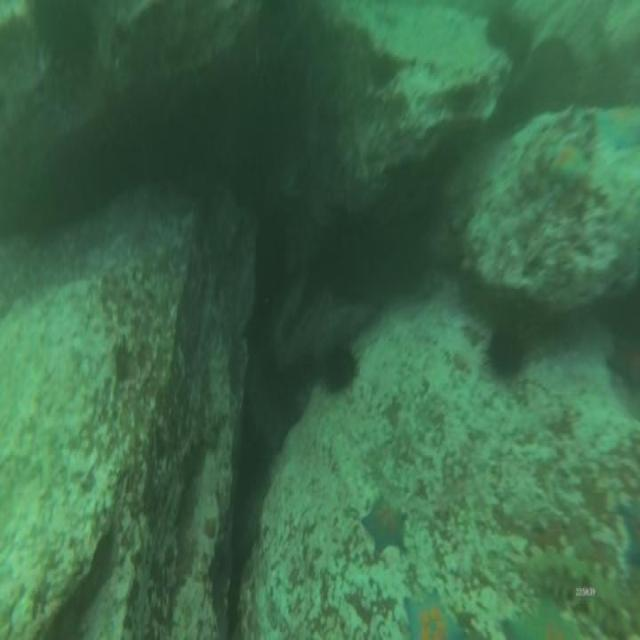echinus: (488, 328, 520, 378), (322, 350, 354, 390)
holothurian: (530, 550, 634, 635)
starfish: (505, 599, 572, 640), (403, 592, 456, 640), (362, 499, 403, 553), (601, 103, 639, 155), (553, 144, 582, 185)
